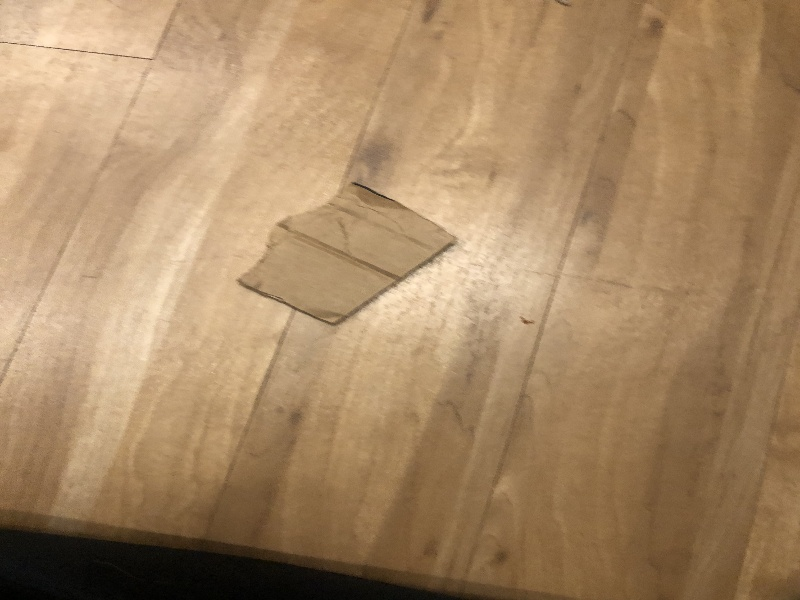cardboard: (233, 179, 466, 329)
